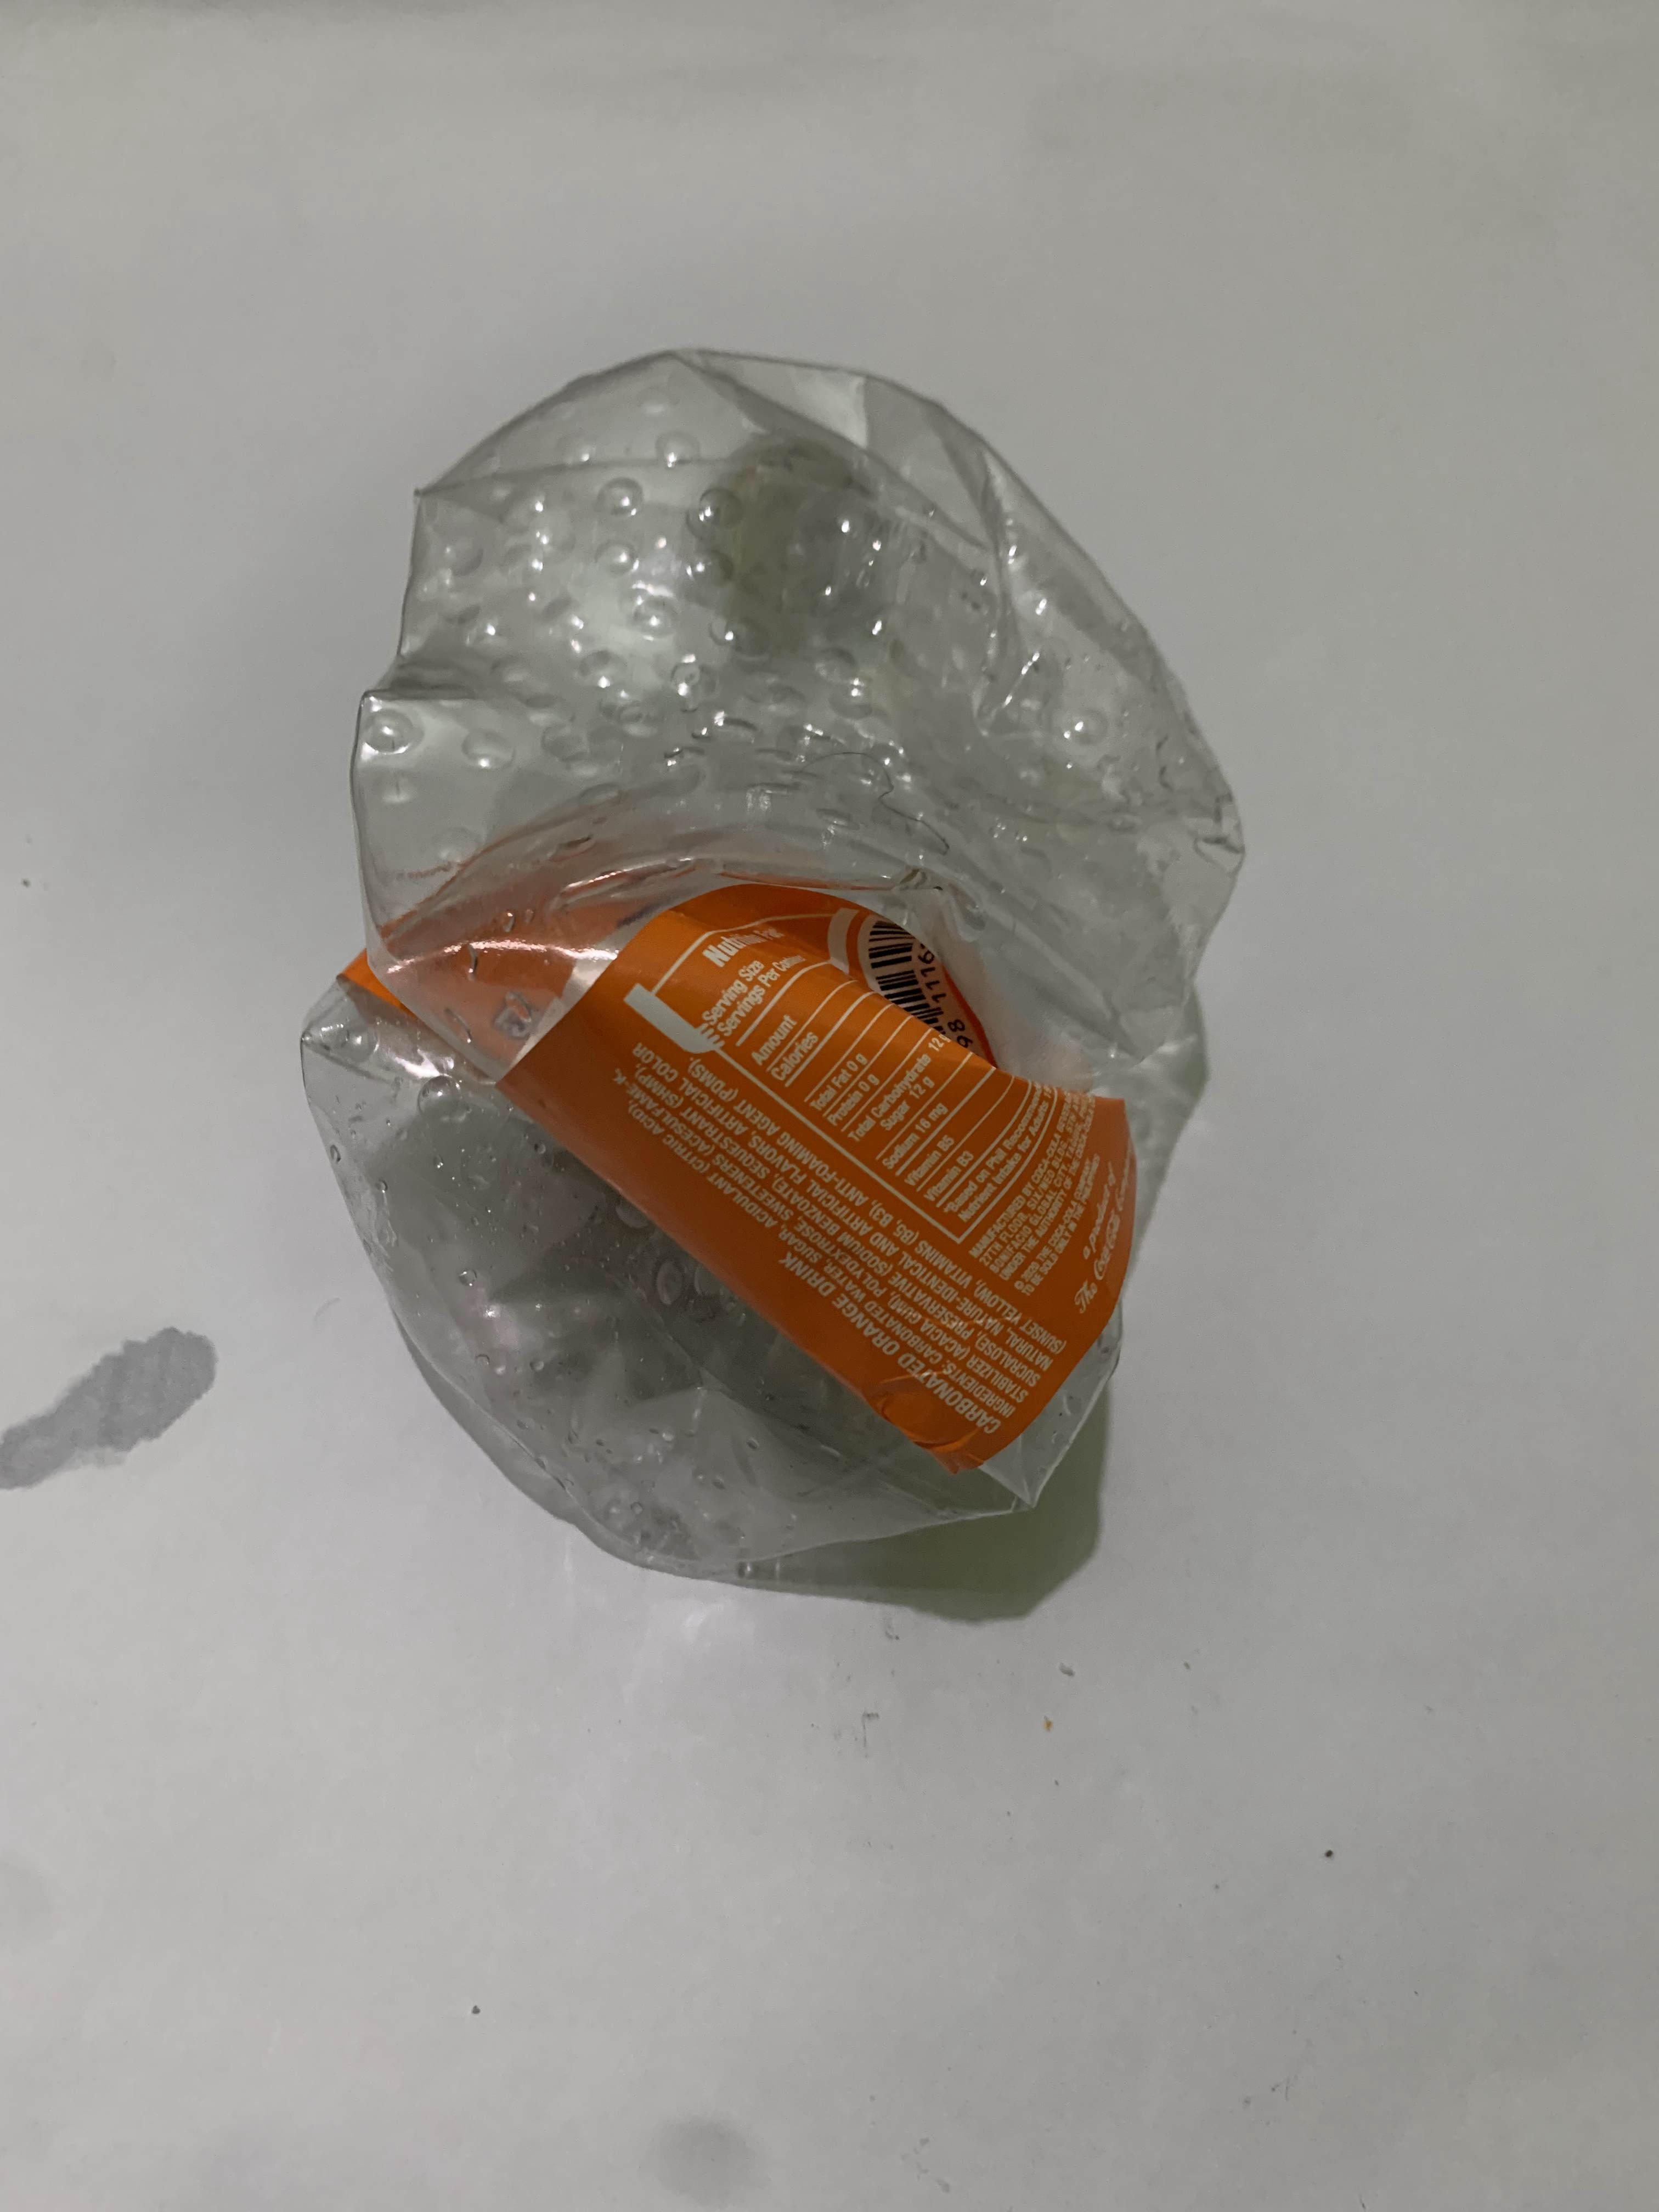bottle: (695, 881, 842, 1038)
